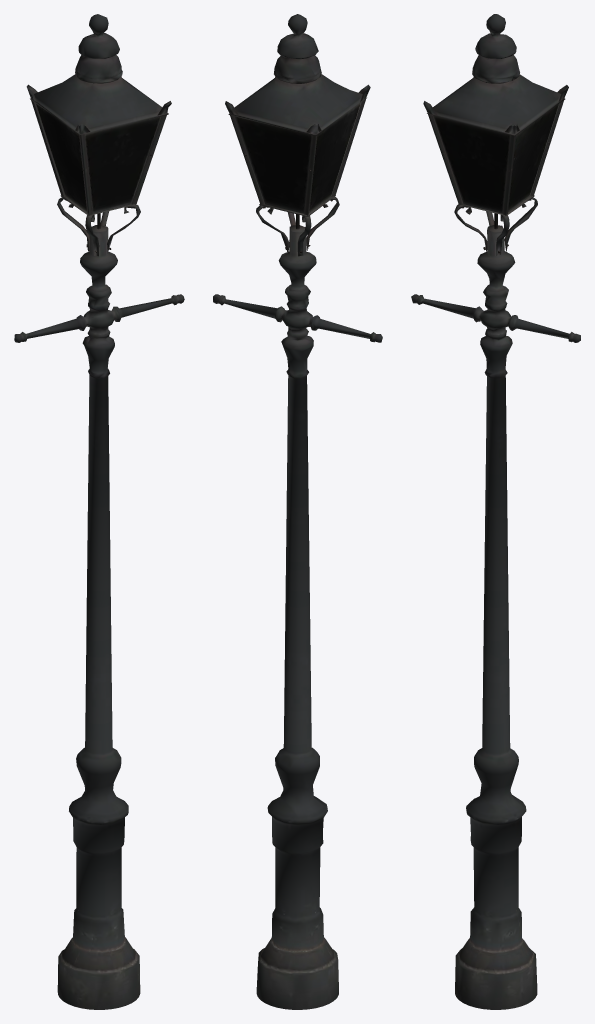
The model's file is lampadaire_fonte_lod1.glb.
3 renders of one model, left to right at view 1: azimuth 30°, elevation 25°; view 2: azimuth 150°, elevation 25°; view 3: azimuth 330°, elevation 25°, orthographic.
Parts seen in each view (by area): view 1: street_lamp_01; view 2: street_lamp_01; view 3: street_lamp_01.
Boxes of the visible parts, x1,y1,x2,y2 form: street_lamp_01: (14,14,184,1009); street_lamp_01: (213,14,382,1009); street_lamp_01: (411,14,580,1009).
Bounding box in the file's own units: 0.7015 × 3.87 × 0.3855.
2 materials, 2 textured.
